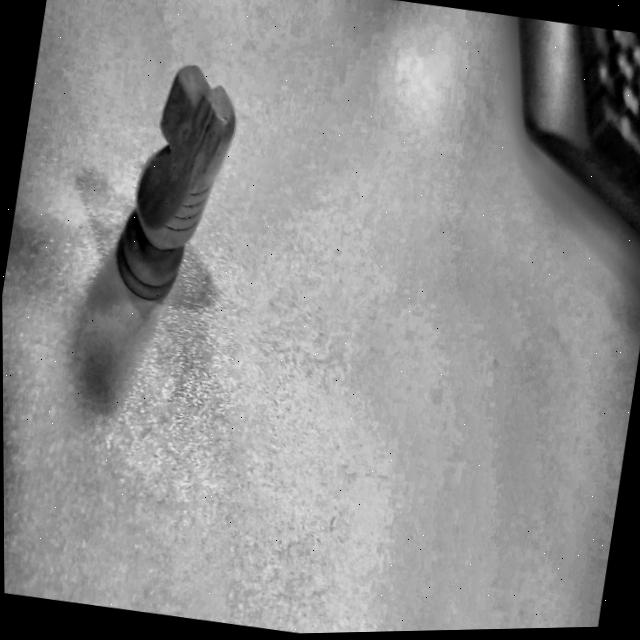white-knight: (116, 65, 235, 300)
